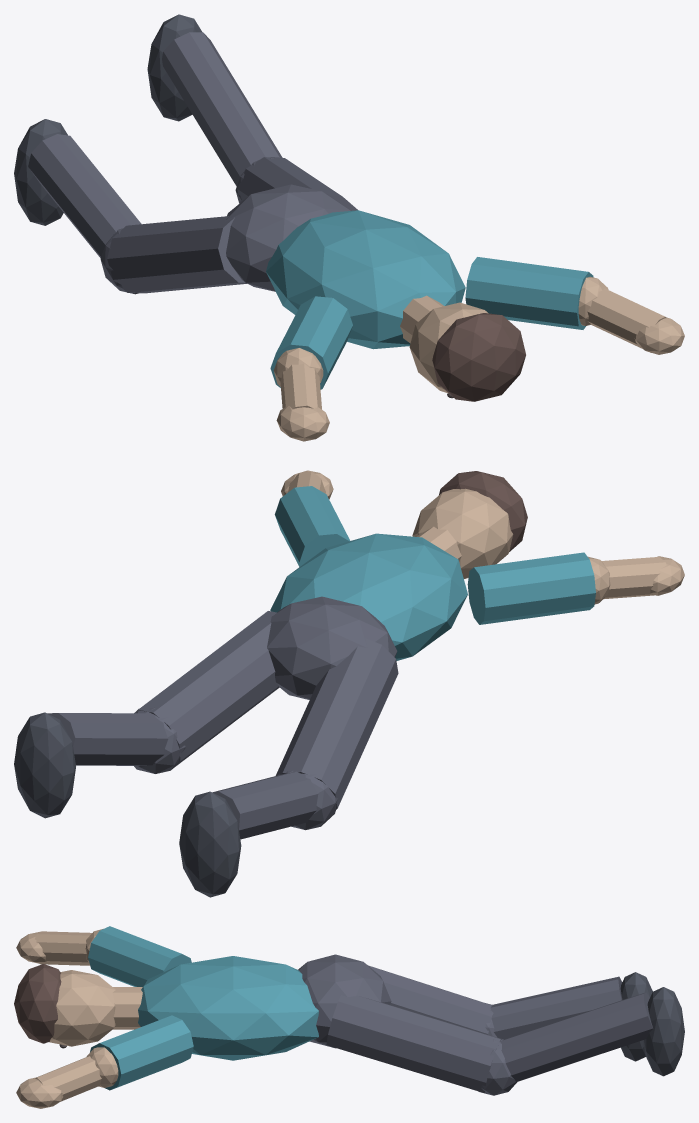
3 views of the same model, one above another, from view 1: azimuth 30°, elevation 25°; view 2: azimuth 150°, elevation 25°; view 3: azimuth 270°, elevation 25° (orthographic). The views are drawn at different scales.
Parts seen in each view (by area): view 1: world; view 2: world; view 3: world.
Boxes of the visible parts, <box> form: world: <box>14,14,684,441</box>; world: <box>14,470,684,897</box>; world: <box>14,926,684,1108</box>.
Bounding box in the file's own units: 1.17 × 0.4556 × 2.04.
